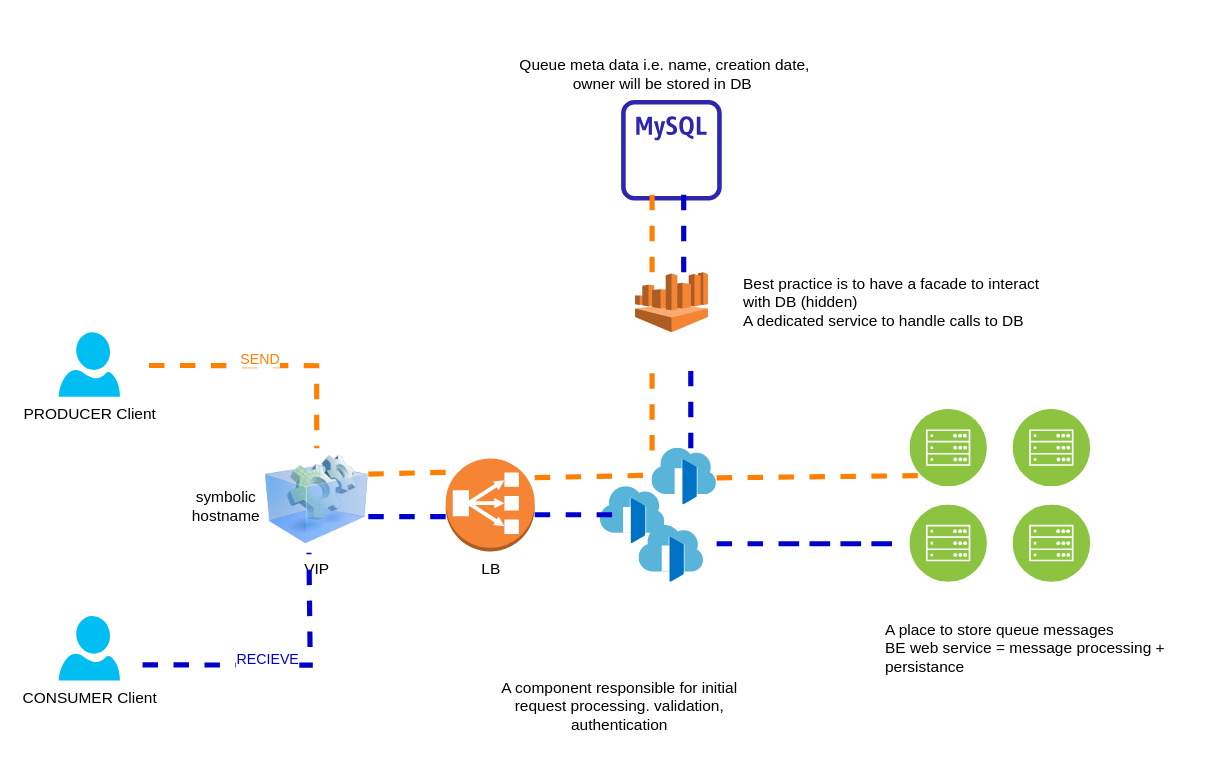
Some shapes in this 1216 by 766 pixel diagram are drawn without their labels. Each missing label, with the box of its shape:
Front End Service: (651, 448, 716, 504)
MetaData Service: (634, 271, 708, 332)
